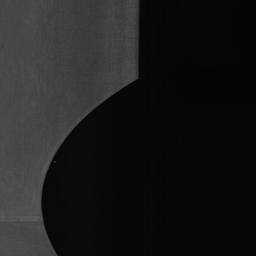Crescent gap: (42, 79, 138, 256)
